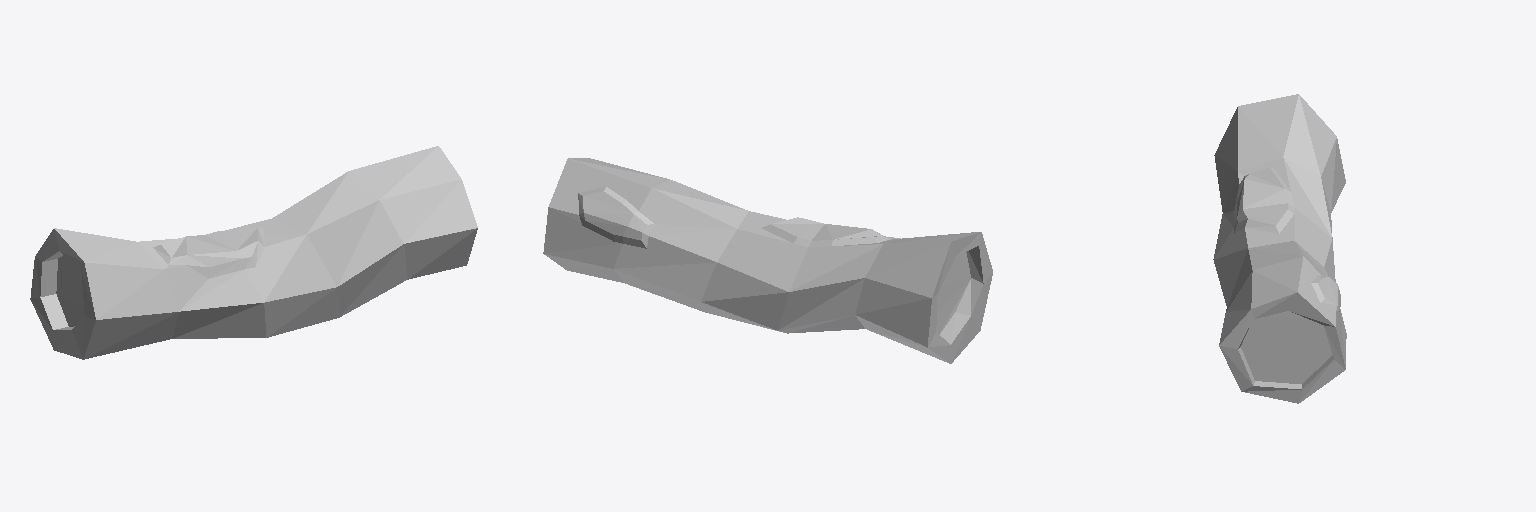
The model's file is Log1Moss.obj.
The picture shows the model from 3 angles: view 1: azimuth 30°, elevation 25°; view 2: azimuth 150°, elevation 25°; view 3: azimuth 270°, elevation 25°; orthographic projection.
Visible parts, largest first — view 1: Log_4_Moss_Cylinder.030; view 2: Log_4_Moss_Cylinder.030; view 3: Log_4_Moss_Cylinder.030.
Boxes of the visible parts, box(x1,y1,x2,y2) form: Log_4_Moss_Cylinder.030: box(30, 146, 477, 359); Log_4_Moss_Cylinder.030: box(543, 158, 992, 363); Log_4_Moss_Cylinder.030: box(1213, 94, 1346, 403).
Bounding box in the file's own units: 6.46 × 2.17 × 1.92.